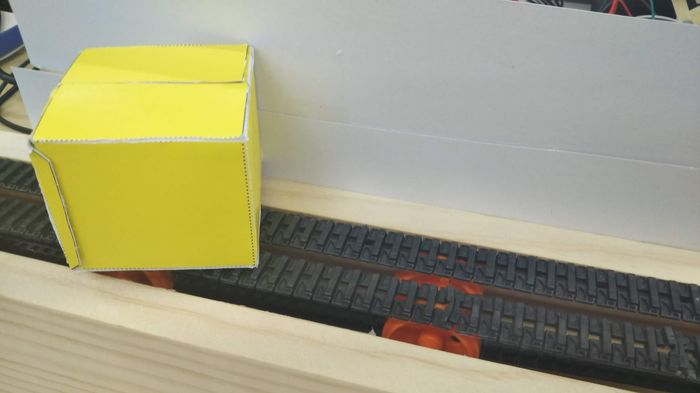box4: (24, 40, 272, 278)
